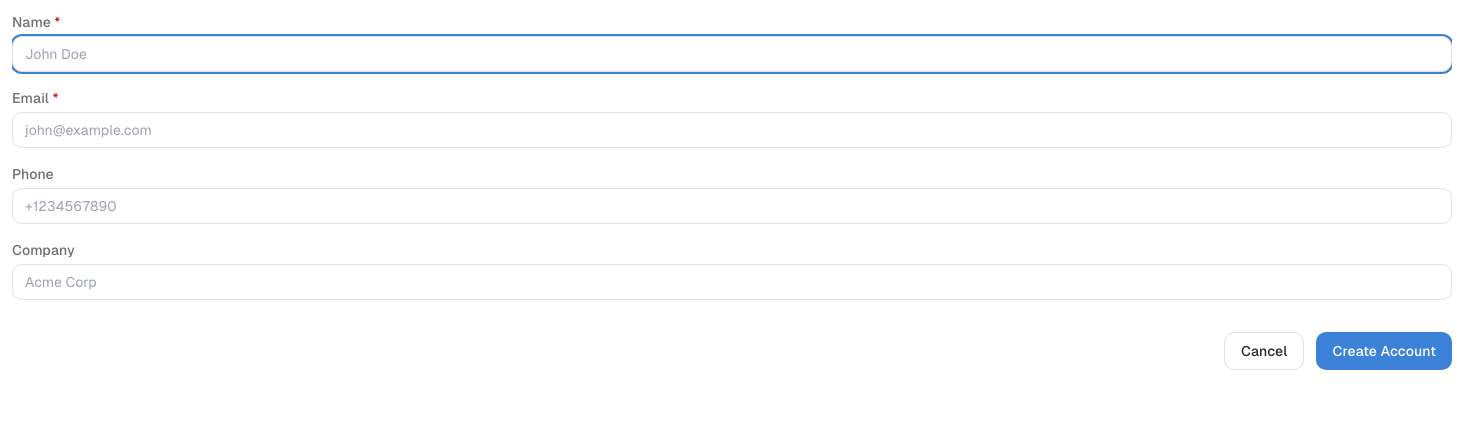
Scenario: CreateAccountForm › should validate required fields
Click the button "Create Account". click: (1384, 351)
box: [1316,332,1452,370]
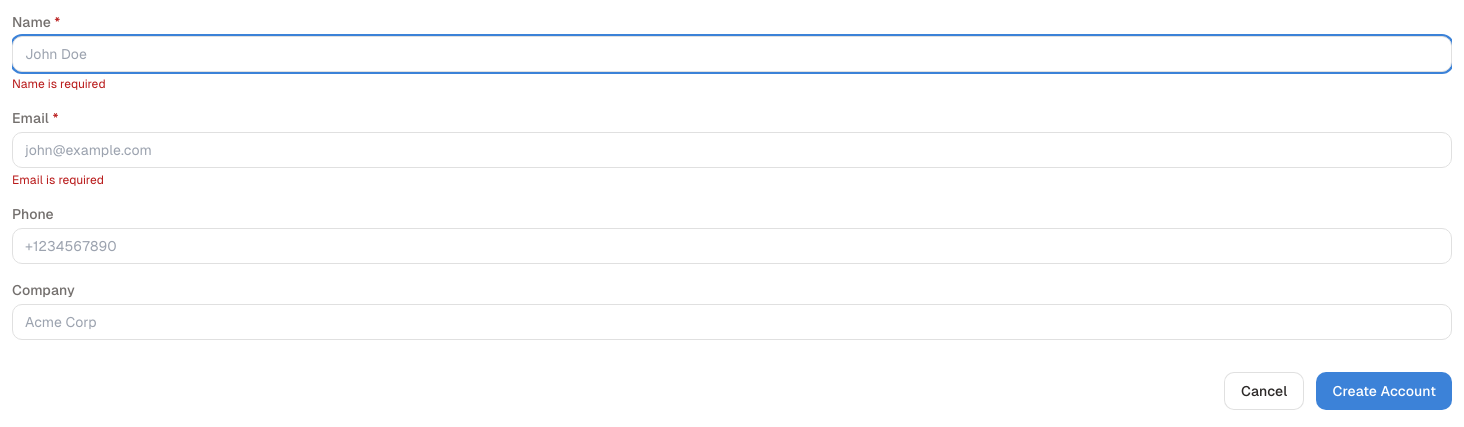
Expected: the text "Name is required" is shown, [12,77,106,91]
Expected: the text "Email is required" is shown, [12,173,104,187]
